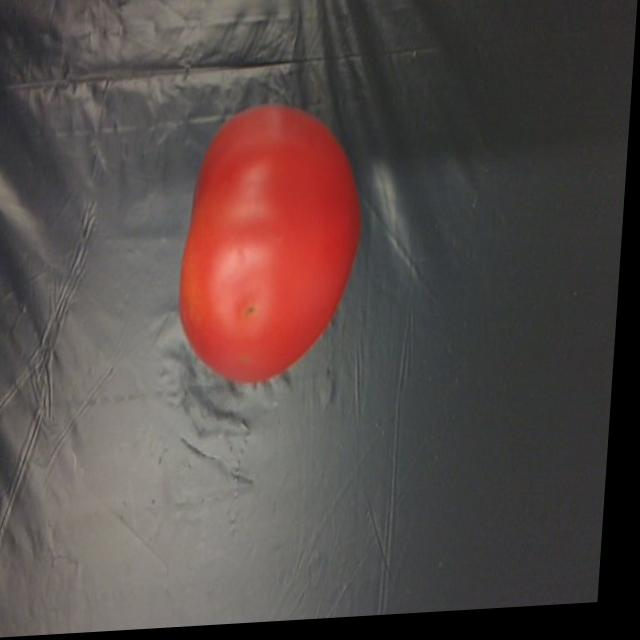kirmizi: (179, 83, 382, 416)
